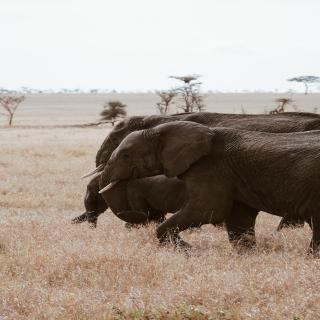Elephant: (94, 121, 320, 250)
